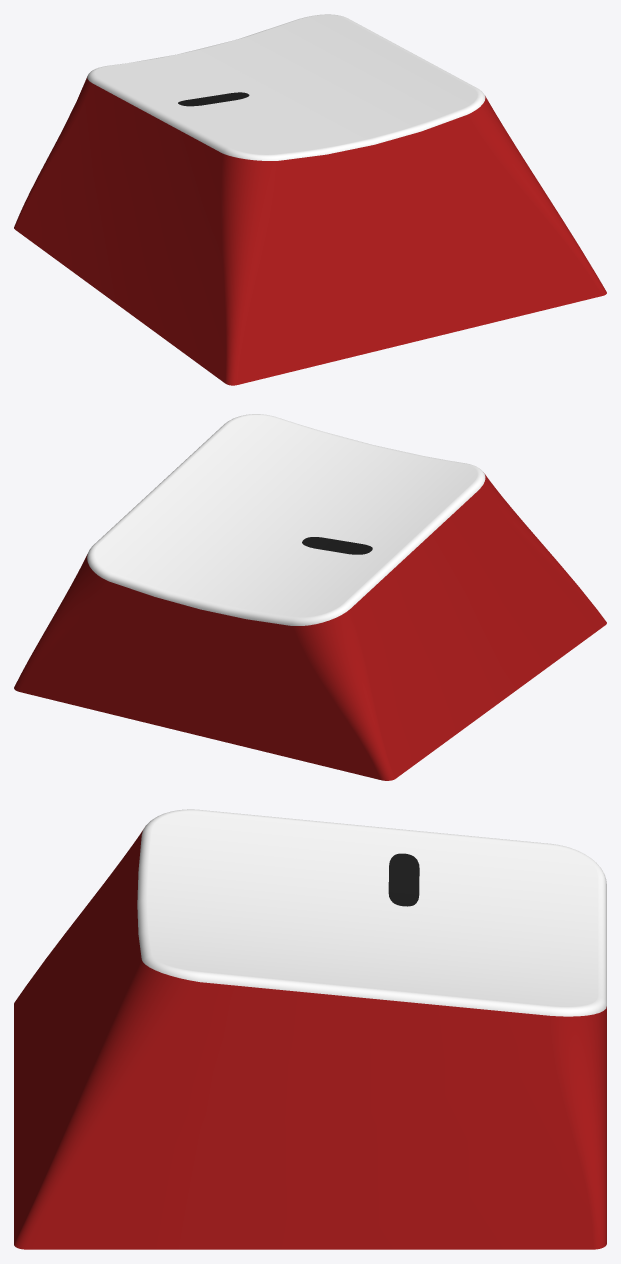
Rendered from NUM Minus.fbx.
3 renders of one model, top to bottom at view 1: azimuth 30°, elevation 25°; view 2: azimuth 150°, elevation 25°; view 3: azimuth 270°, elevation 25°, orthographic. The views are drawn at different scales.
Visible parts, largest first — view 1: Body1; view 2: Body1; view 3: Body1.
Boxes of the visible parts, x1=… form: Body1: x1=14, y1=14, x2=606, y2=385; Body1: x1=14, y1=414, x2=606, y2=780; Body1: x1=14, y1=809, x2=606, y2=1249.
Size of the model in its own units: 18 by 7.85 by 18.
